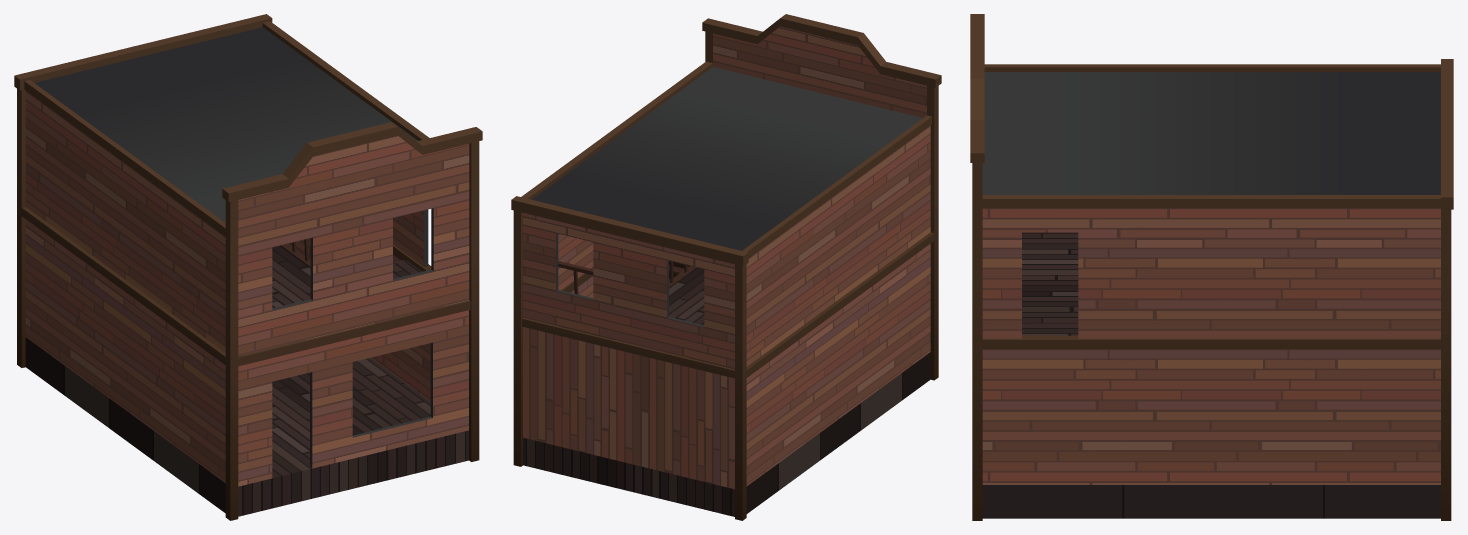
Rendered from House 6 M Brown.glb.
The picture shows the model from 3 angles, left to right: view 1: azimuth 30°, elevation 25°; view 2: azimuth 150°, elevation 25°; view 3: azimuth 270°, elevation 25°; orthographic projection. The views are drawn at different scales.
Parts seen in each view (by area): view 1: House 6 M Brown; view 2: House 6 M Brown; view 3: House 6 M Brown.
Boxes of the visible parts, x1,y1,x2,y2 form: House 6 M Brown: (14, 14, 482, 520); House 6 M Brown: (511, 14, 941, 520); House 6 M Brown: (970, 14, 1453, 520).
Size of what is drawn, in the model's own units: 6.33 by 8.43 by 9.28.
3 materials, 3 textured.
